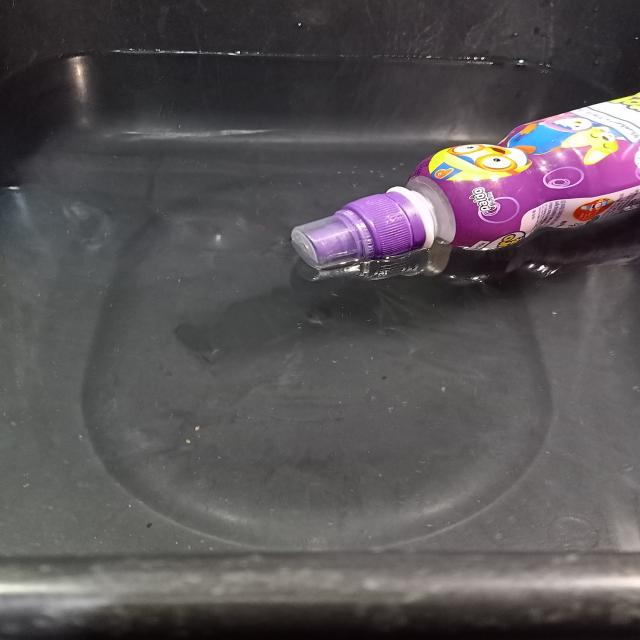Plastic Bottle: (291, 93, 640, 281)
